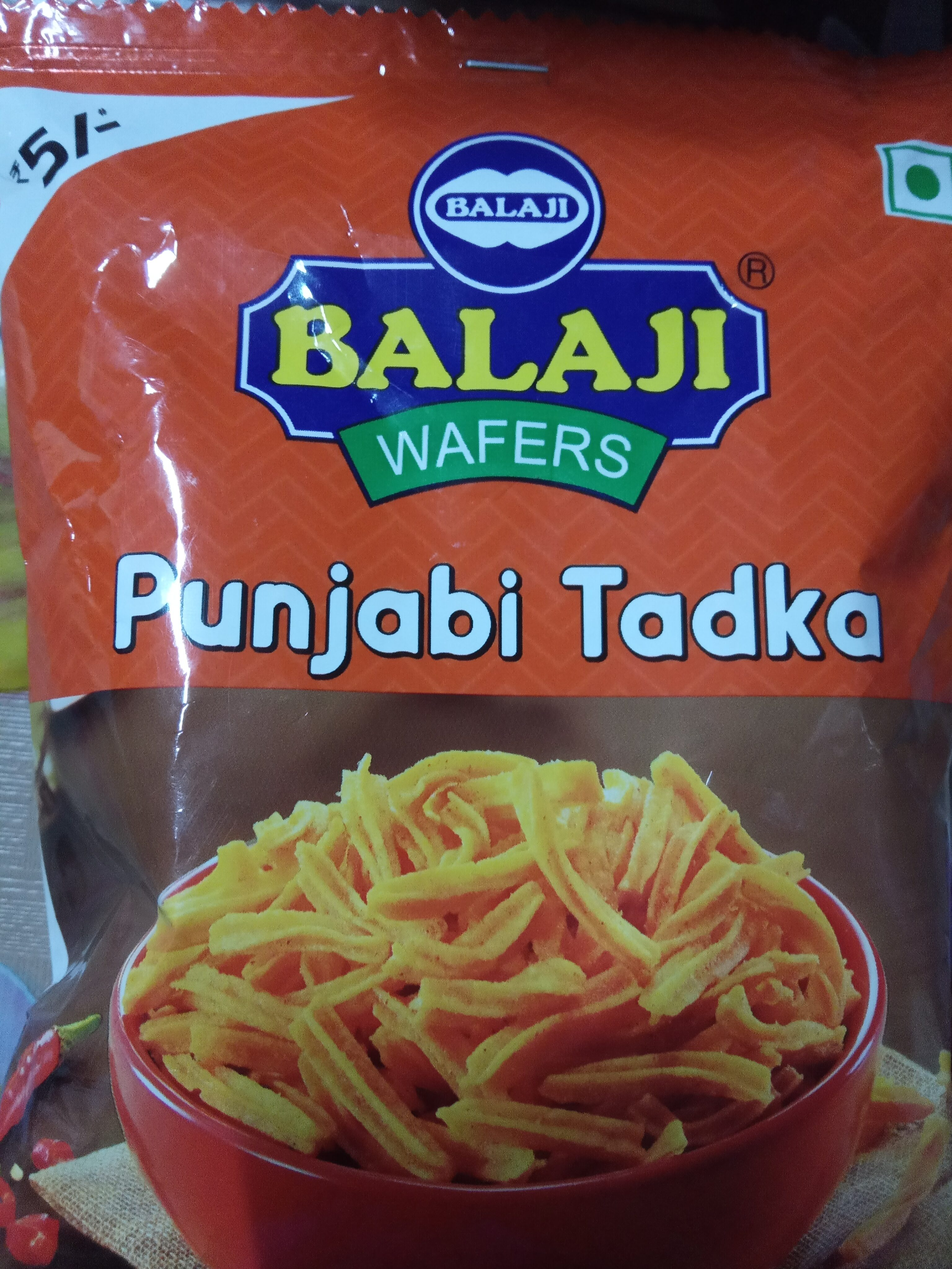Balaji wafers panjabi tadka: (86, 114, 866, 1155)
